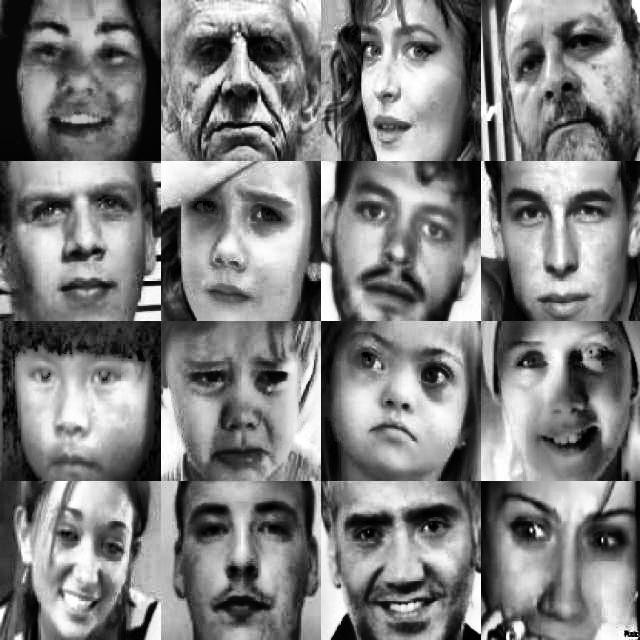fear: (491, 492, 640, 640)
happy: (486, 331, 637, 468), (339, 3, 470, 154), (16, 5, 147, 153), (337, 498, 466, 640)
neutral: (8, 165, 146, 319), (171, 7, 308, 156), (343, 168, 472, 325), (502, 4, 633, 156), (496, 172, 630, 320), (17, 340, 143, 474)
sad: (174, 168, 312, 324), (169, 494, 306, 640), (328, 333, 466, 473), (169, 341, 293, 478)
